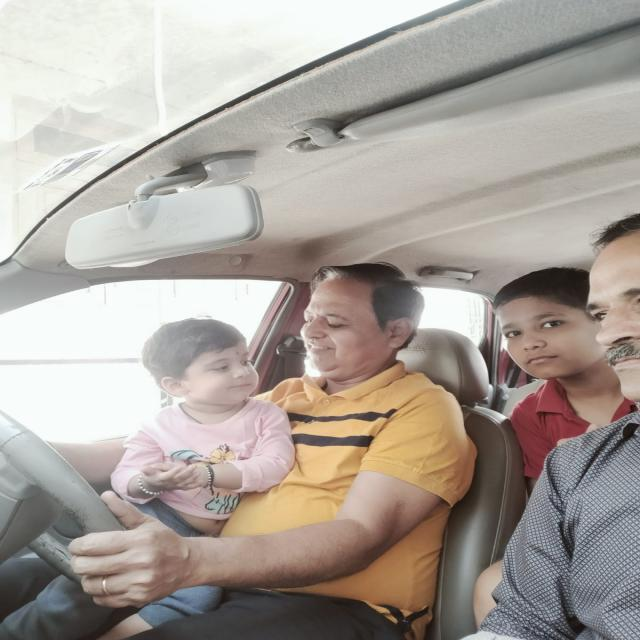child: (142, 309, 262, 415)
person: (288, 254, 432, 402), (574, 208, 640, 427), (489, 261, 594, 392)
